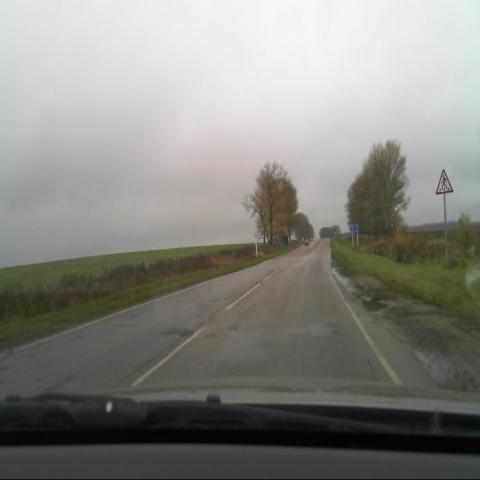1_22: (435, 166, 452, 194)
